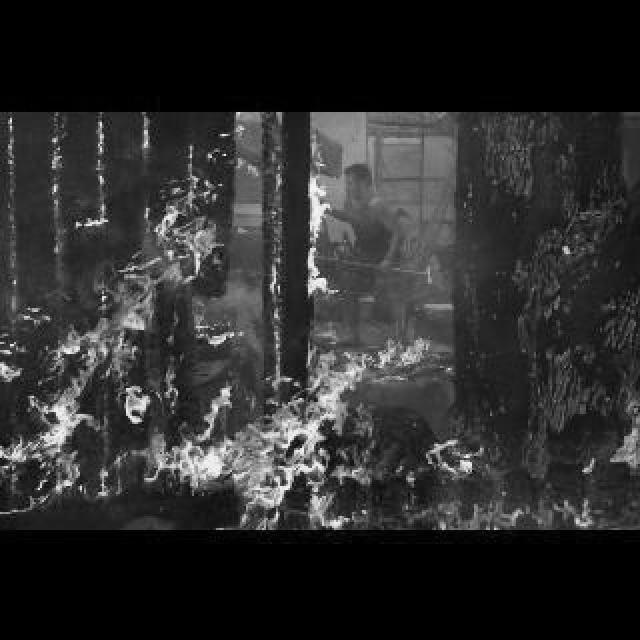Fire: (2, 116, 452, 526)
